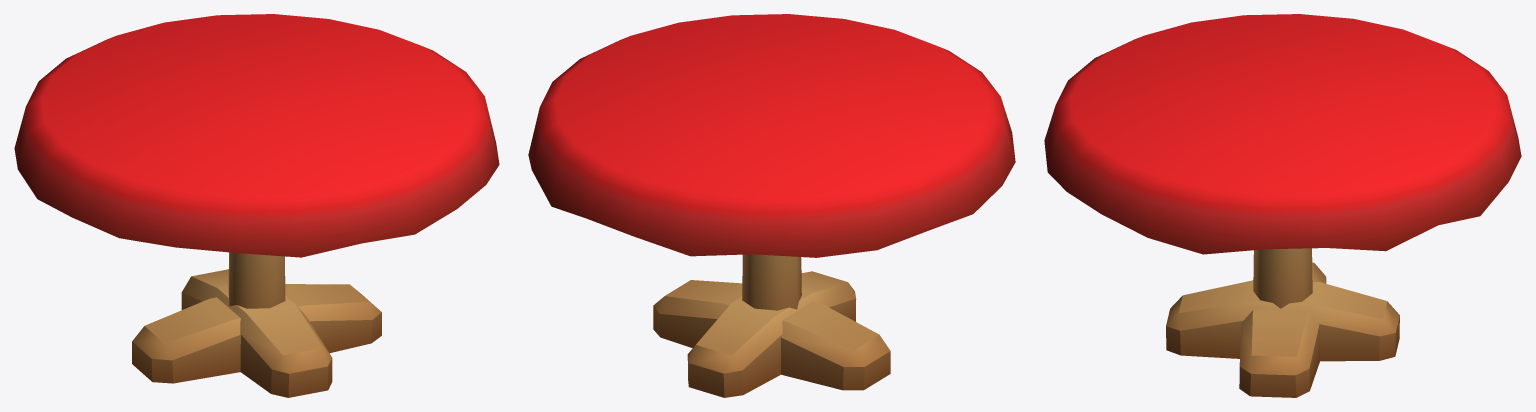
The model's file is Table_2_N.glb.
The picture shows the model from 3 angles, left to right: view 1: azimuth 30°, elevation 25°; view 2: azimuth 150°, elevation 25°; view 3: azimuth 270°, elevation 25°; orthographic projection. The views are drawn at different scales.
Visible parts, largest first — view 1: Table_2_N; view 2: Table_2_N; view 3: Table_2_N.
Boxes of the visible parts, left/top/right/bottom form: Table_2_N: left=14, top=14, right=499, bottom=397; Table_2_N: left=528, top=14, right=1015, bottom=397; Table_2_N: left=1044, top=14, right=1521, bottom=397.
Bounding box in the file's own units: 1.44 × 0.8 × 1.44.
Materials: 1 (1 with a texture image).
